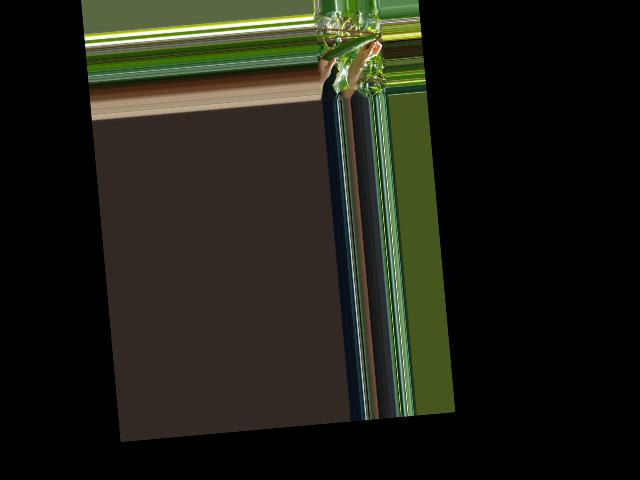cucumber: (320, 35, 377, 61)
